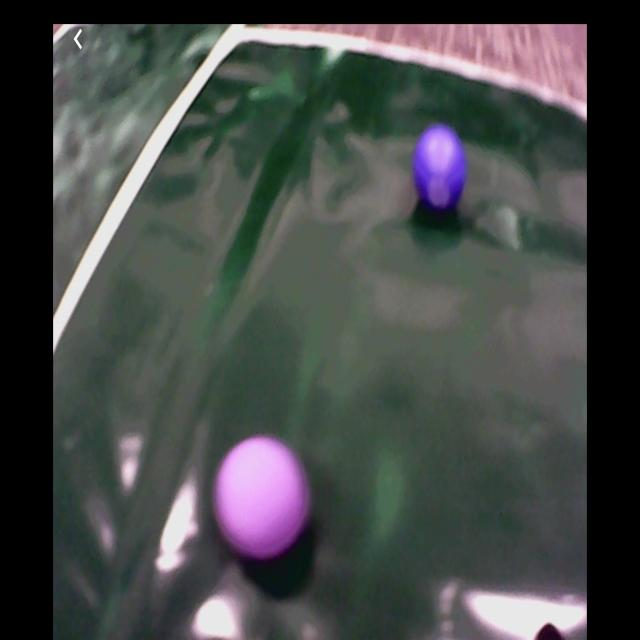ball: (213, 435, 312, 565), (414, 122, 466, 210)
